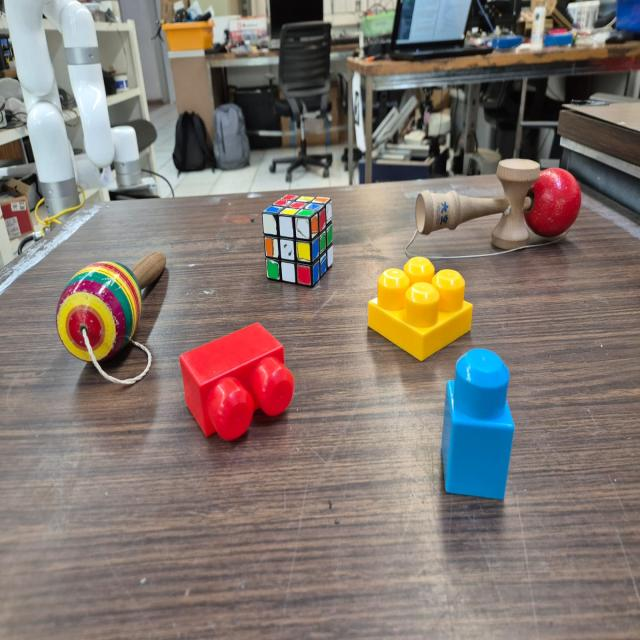balero: (56, 252, 168, 386)
balero ball: (411, 158, 584, 252)
lego 2: (179, 321, 296, 444)
lego 4: (368, 254, 473, 360)
lego_1: (441, 350, 516, 499)
rubick: (260, 194, 336, 286)
